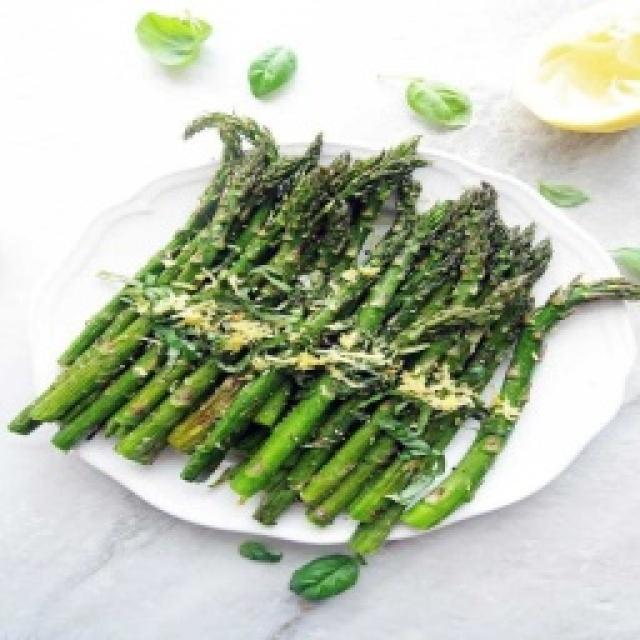Asparagus spear: (545, 262, 618, 394), (206, 116, 255, 226), (405, 194, 445, 299), (352, 228, 397, 288)
